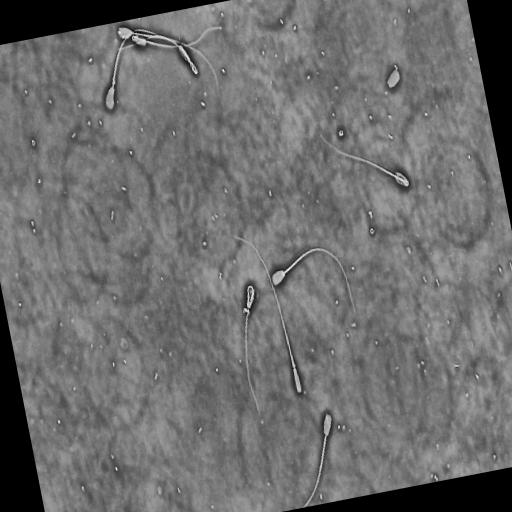coiled-tail: (246, 284, 260, 414)
folded-tail: (320, 134, 410, 187), (118, 35, 198, 75), (133, 26, 222, 47)
loose-head: (386, 67, 401, 90)
normal: (231, 231, 305, 397), (103, 28, 221, 116), (271, 245, 359, 323), (316, 125, 413, 195), (117, 33, 199, 76), (242, 280, 265, 424), (302, 410, 333, 507), (130, 24, 224, 51)
proximal-droplet: (112, 76, 116, 84), (292, 360, 295, 368)
